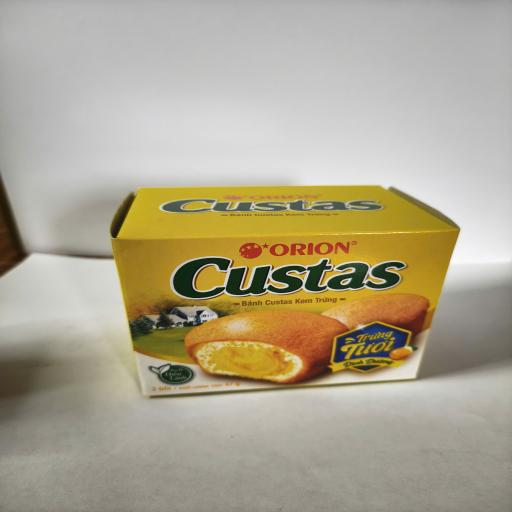custas: (110, 185, 460, 397)
